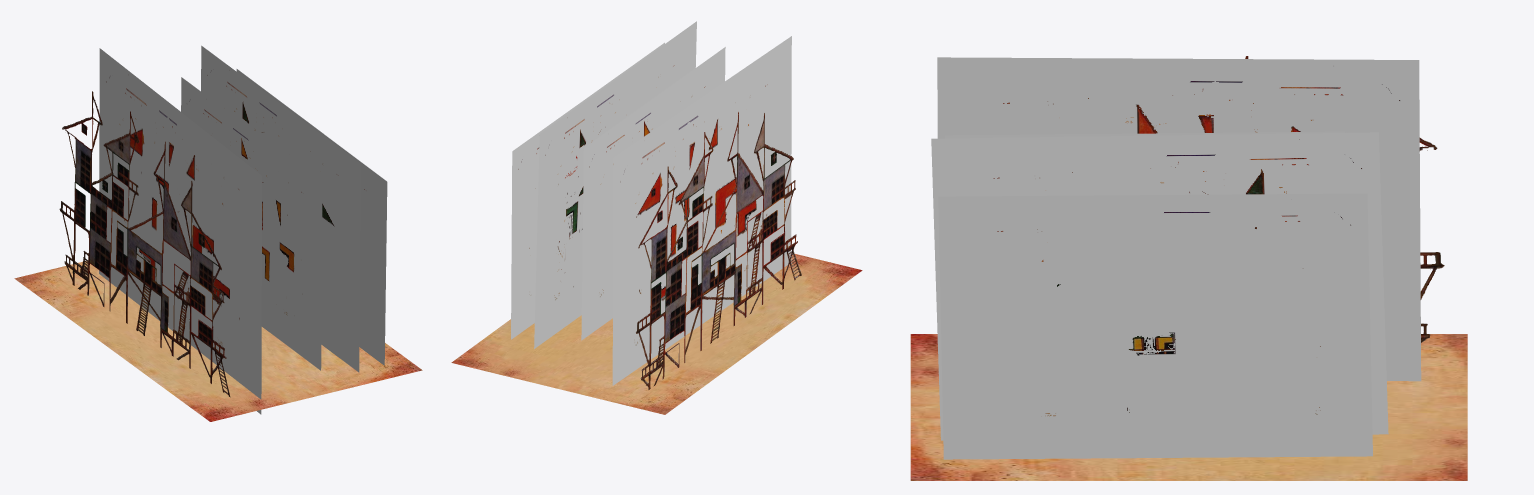
Rendered from xul.dae.
3 renders of one model, left to right at view 1: azimuth 30°, elevation 25°; view 2: azimuth 150°, elevation 25°; view 3: azimuth 270°, elevation 25°, orthographic. The views are drawn at different scales.
Parts seen in each view (by area): view 1: Plane_002, Plane, Plane_003, Plane_001, Plane_004, Plane_005; view 2: Plane_002, Plane, Plane_004, Plane_001, Plane_003, Plane_005; view 3: Plane_005, Plane_002, Plane_004, Plane, Plane_003, Plane_001.
Part boxes in pixels (x1,y1,x2,y2): Plane_002: (99, 48, 262, 414); Plane: (14, 261, 422, 421); Plane_003: (181, 77, 322, 370); Plane_001: (59, 91, 230, 397); Plane_004: (201, 45, 360, 372); Plane_005: (236, 69, 387, 365); Plane_002: (612, 36, 791, 385); Plane: (451, 254, 862, 414); Plane_004: (534, 21, 696, 348); Plane_001: (636, 112, 801, 389); Plane_003: (581, 47, 725, 340); Plane_005: (511, 42, 664, 339); Plane_005: (938, 193, 1372, 459); Plane_002: (937, 57, 1421, 381); Plane_004: (931, 132, 1388, 440); Plane: (910, 334, 1467, 480); Plane_003: (945, 131, 1344, 138); Plane_001: (1245, 56, 1444, 342).
Bounding box in the file's own units: 13.11 × 23.66 × 18.19.
6 materials, 6 textured.
